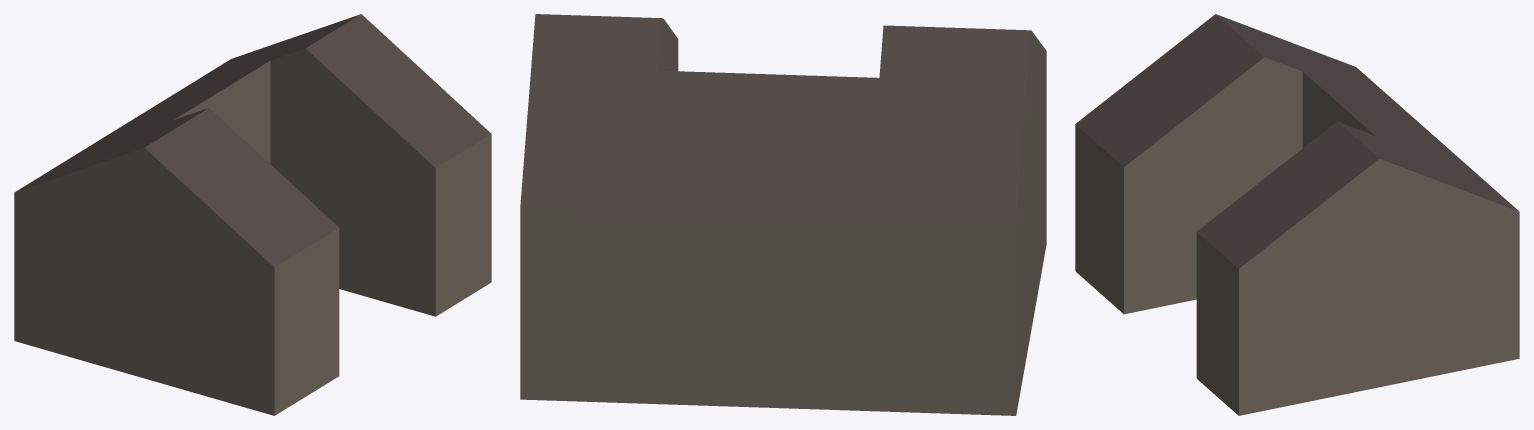
3 views of the same model, side by side, from view 1: azimuth 30°, elevation 25°; view 2: azimuth 150°, elevation 25°; view 3: azimuth 270°, elevation 25° (orthographic). The views are drawn at different scales.
Visible parts, largest first — view 1: HP-w859424153; view 2: HP-w859424153; view 3: HP-w859424153.
Boxes of the visible parts, x1,y1,x2,y2 form: HP-w859424153: (14,14,491,415); HP-w859424153: (520,14,1046,415); HP-w859424153: (1075,14,1519,415).
Size of the model in its own units: 26.53 by 14 by 24.67.
